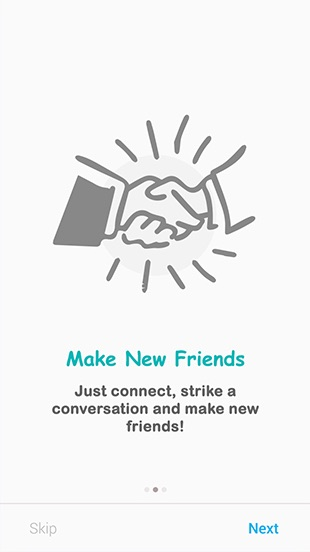Image: (53, 114, 256, 294)
PageIndicator: (144, 486, 168, 494)
Text: (52, 384, 260, 433), (66, 350, 245, 368), (30, 521, 58, 538), (249, 522, 280, 535)
